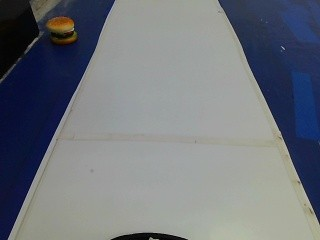burger: (36, 10, 83, 51)
